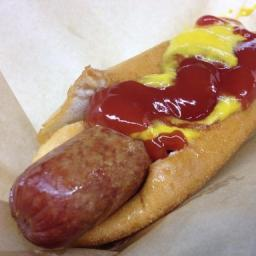hotdog: (9, 156, 141, 252), (38, 116, 146, 176)
